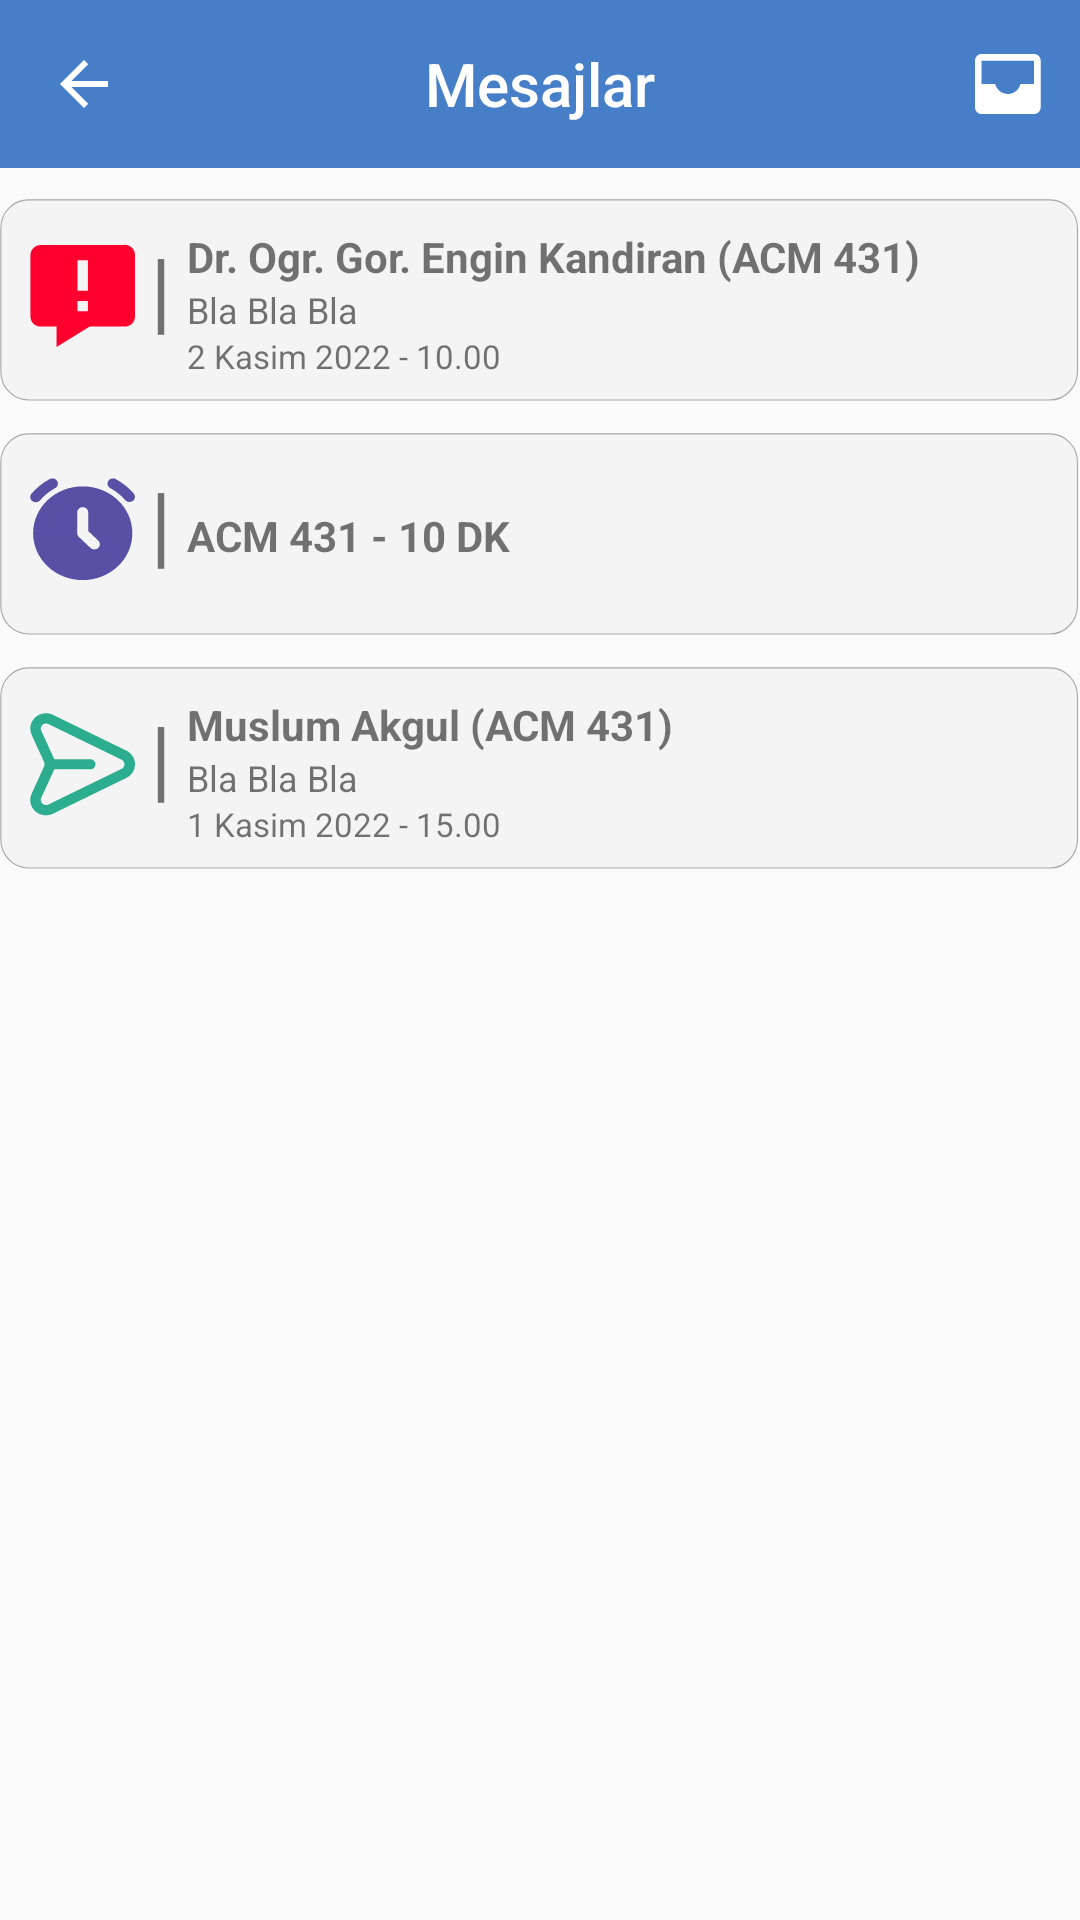

Screen size 1080px x 1920px. Icon name, then its center in pixels as (x,y):
important message: (82,295)
messages time: (82,529)
messsages sent: (82,764)
